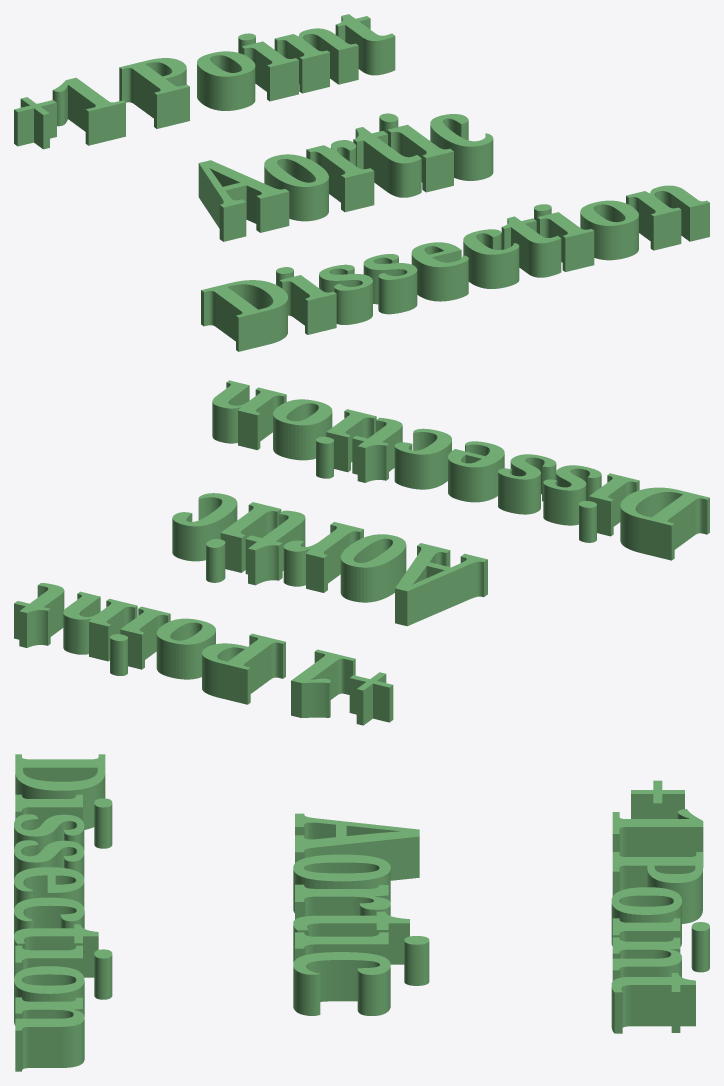
The model's file is posdissect.gltf.
3 renders of one model, top to bottom at view 1: azimuth 30°, elevation 25°; view 2: azimuth 150°, elevation 25°; view 3: azimuth 270°, elevation 25°, orthographic. The views are drawn at different scales.
Visible parts, largest first — view 1: Mesh_Mesh_head_geo001_lambert2SG001; view 2: Mesh_Mesh_head_geo001_lambert2SG001; view 3: Mesh_Mesh_head_geo001_lambert2SG001.
Boxes of the visible parts, left/top/right/bottom form: Mesh_Mesh_head_geo001_lambert2SG001: left=14, top=14, right=709, bottom=351; Mesh_Mesh_head_geo001_lambert2SG001: left=14, top=380, right=709, bottom=725; Mesh_Mesh_head_geo001_lambert2SG001: left=14, top=754, right=709, bottom=1071.
Bounding box in the file's own units: 144 × 10 × 153.
